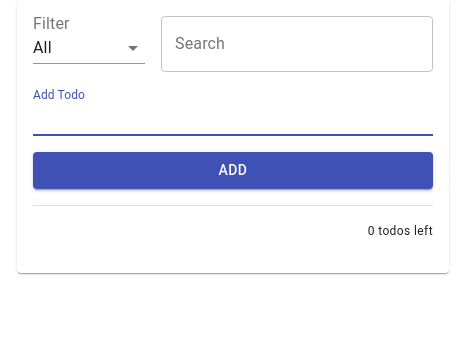
Input form › Form submission › Adds new todo on submit
The image size is (467, 344).
Type "Buy eggs" into the field with test id "todo-input" at (233,120), box x1=33 y1=104 x2=433 y2=136
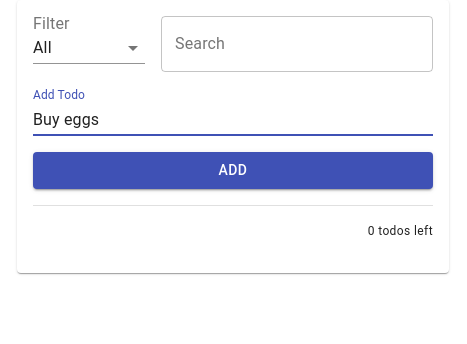
Press Enter in the field with test id "todo-input", box x1=33 y1=104 x2=433 y2=136
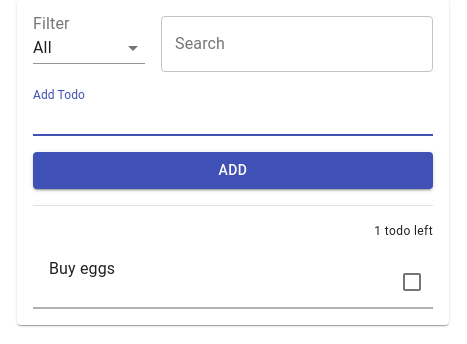
Check: the text with test id "todos" reads "Buy eggs", box x1=49 y1=259 x2=115 y2=278
